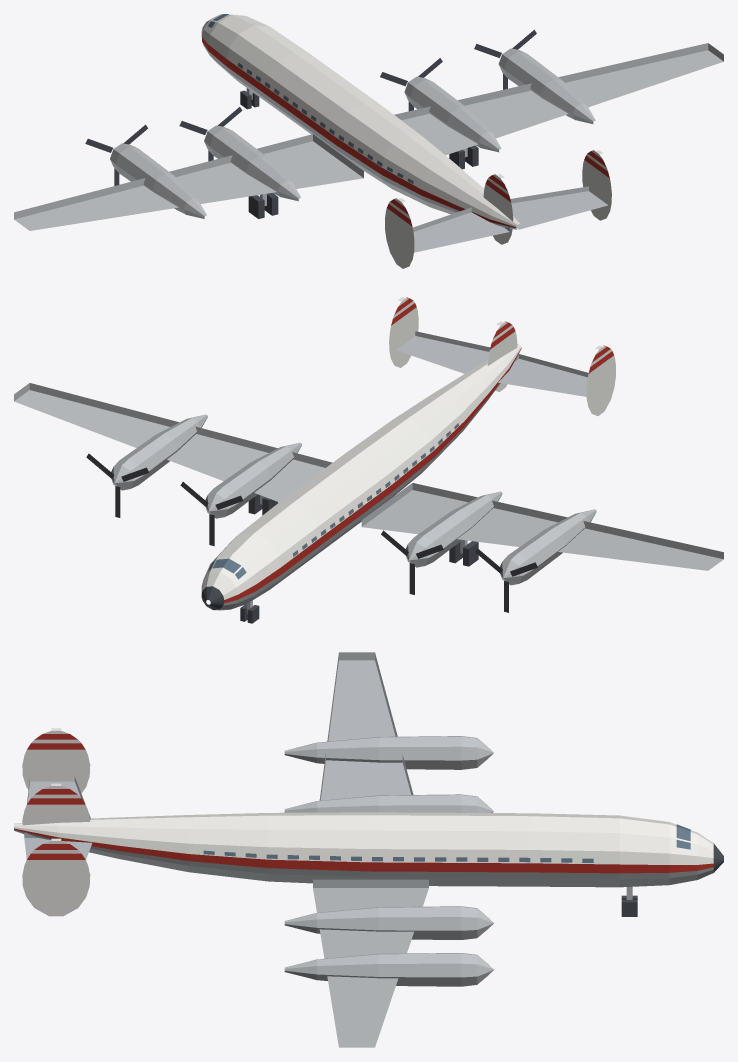
The model's file is nyc-twa-hotel-connie.glb.
3 views of the same model, one above another, from view 1: azimuth 30°, elevation 25°; view 2: azimuth 150°, elevation 25°; view 3: azimuth 270°, elevation 25° (orthographic). The views are drawn at different scales.
Parts seen in each view (by area): view 1: Connie (TWA Hotel); view 2: Connie (TWA Hotel); view 3: Connie (TWA Hotel).
Part boxes in pixels (x1,y1,x2,y2): Connie (TWA Hotel): [14, 14, 723, 268]; Connie (TWA Hotel): [14, 297, 723, 623]; Connie (TWA Hotel): [14, 652, 723, 1047].
Size of the model in its own units: 45.72 by 7.09 by 35.42.
